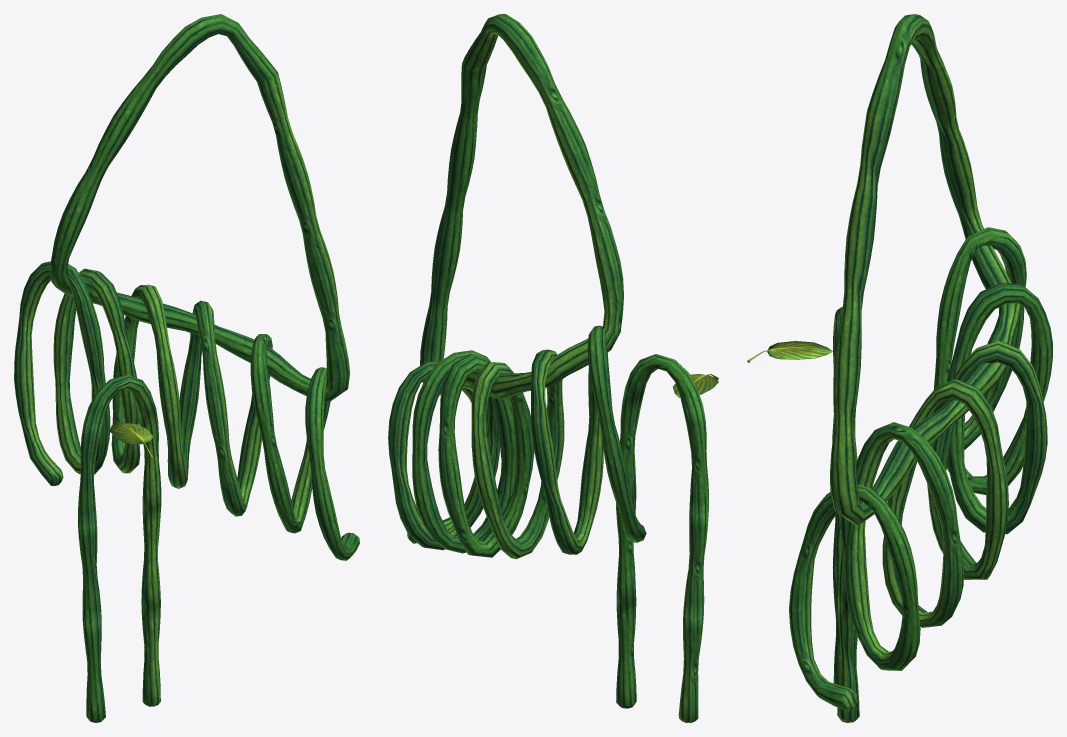
The model's file is skyjungle_Lulu_vines.fbx.
3 views of the same model, side by side, from view 1: azimuth 30°, elevation 25°; view 2: azimuth 150°, elevation 25°; view 3: azimuth 270°, elevation 25° (orthographic). The views are drawn at different scales.
Visible parts, largest first — view 1: Vine_loops, Vine_support, Vine_hang, Leaf; view 2: Vine_loops, Vine_support, Vine_hang; view 3: Vine_loops, Vine_support, Vine_hang, Leaf.
Boxes of the visible parts, box(x1,y1,x2,y2) form: Vine_loops: box(14, 261, 359, 560); Vine_support: box(49, 14, 349, 402); Vine_hang: box(78, 374, 161, 722); Leaf: box(109, 422, 153, 458); Vine_loops: box(388, 325, 646, 559); Vine_support: box(420, 14, 623, 398); Vine_hang: box(616, 354, 708, 722); Vine_loops: box(789, 227, 1052, 711); Vine_support: box(830, 14, 1020, 525); Vine_hang: box(832, 306, 859, 722); Leaf: box(747, 341, 832, 362).
Size of the model in its own units: 2041 by 4501 by 1657.
